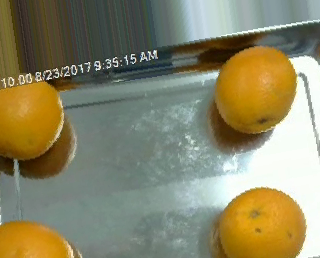Orange: (214, 44, 297, 133), (217, 185, 307, 258), (1, 73, 65, 160)
